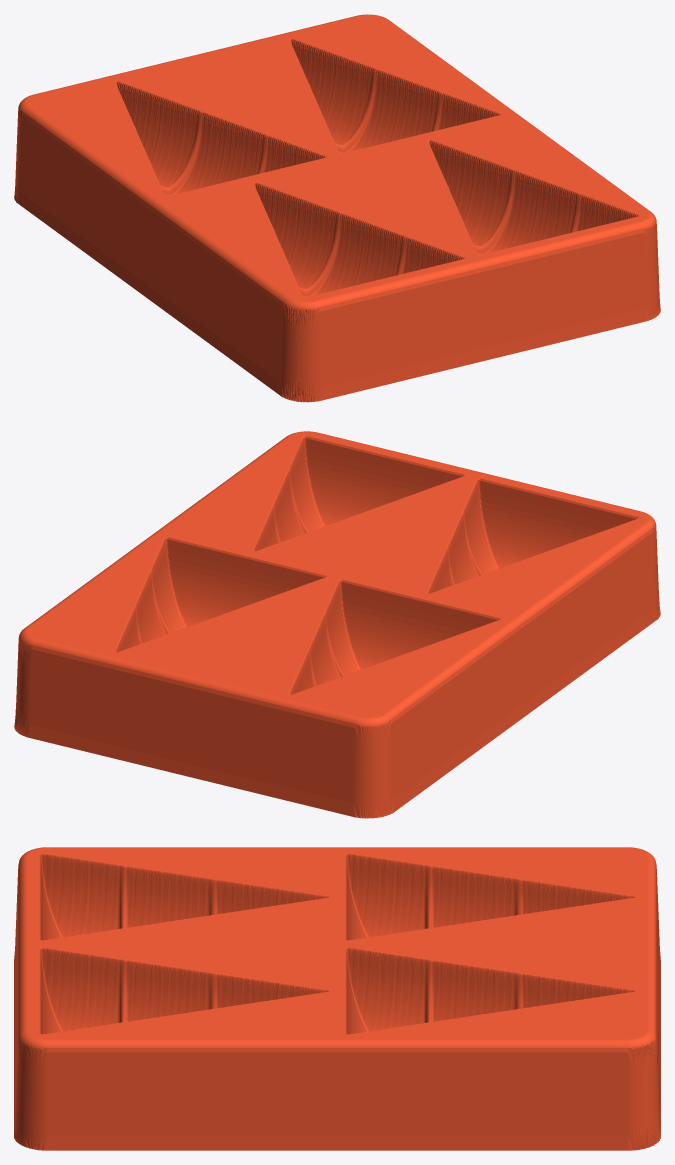
The model's file is mold.glb.
The picture shows the model from 3 angles, top to bottom: view 1: azimuth 30°, elevation 25°; view 2: azimuth 150°, elevation 25°; view 3: azimuth 270°, elevation 25°; orthographic projection. The views are drawn at different scales.
Parts seen in each view (by area): view 1: geometry_0; view 2: geometry_0; view 3: geometry_0.
Part boxes in pixels (bbox=[...]): geometry_0: bbox=[14, 14, 660, 402]; geometry_0: bbox=[14, 431, 660, 818]; geometry_0: bbox=[14, 847, 660, 1150].
Bounding box in the file's own units: 0.1277 × 0.031 × 0.1721.
